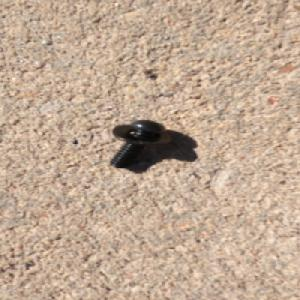BoltWasher: (106, 118, 174, 169)
